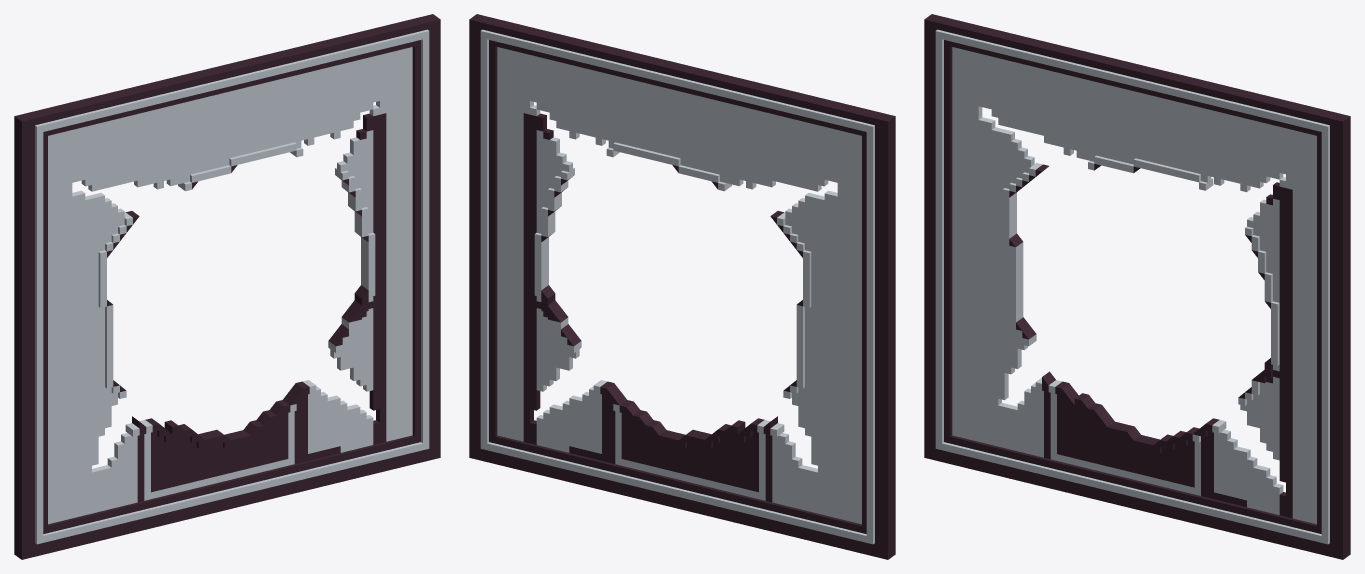
File: Cut Open Painting.fbx
3 renders of one model, left to right at view 1: azimuth 30°, elevation 25°; view 2: azimuth 150°, elevation 25°; view 3: azimuth 330°, elevation 25°, orthographic.
Parts seen in each view (by area): view 1: generated; view 2: generated; view 3: generated.
Part boxes in pixels (x1=…): generated: x1=14, y1=14, x2=440, y2=559; generated: x1=469, y1=14, x2=895, y2=559; generated: x1=924, y1=14, x2=1350, y2=559.
Bounding box in the file's own units: 2560 × 2560 × 120.
